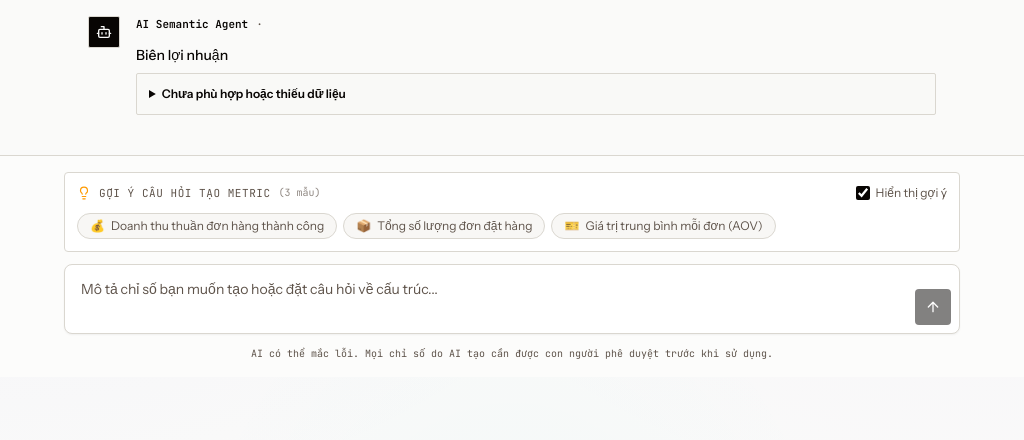
Scenario: metric review evidence and gates › keeps blocked candidates visible after history reload
Expected: the text "Biên lợi nhuận" is shown, [136,46,228,64]
Click the heading "Chưa phù hợp hoặc thiếu dữ liệu" at [254, 93], box [162,86,346,100]
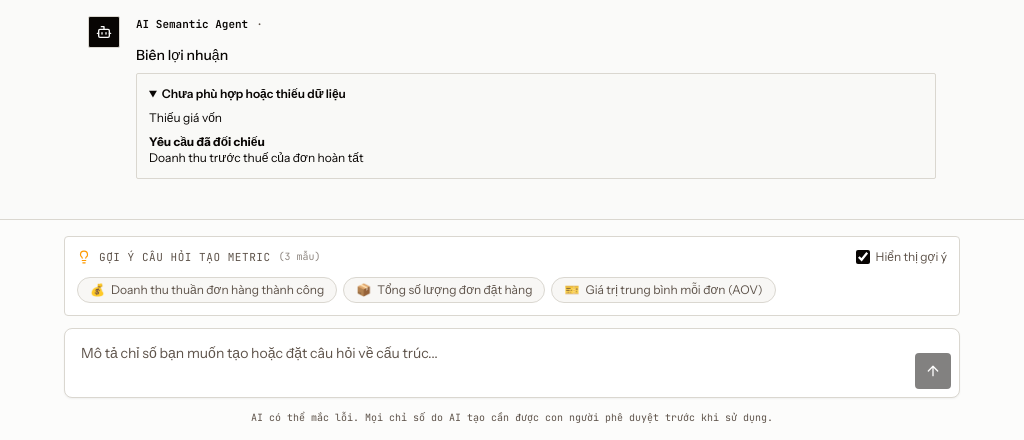
Expected: the text "Thiếu giá vốn" is shown, [149,110,222,124]
